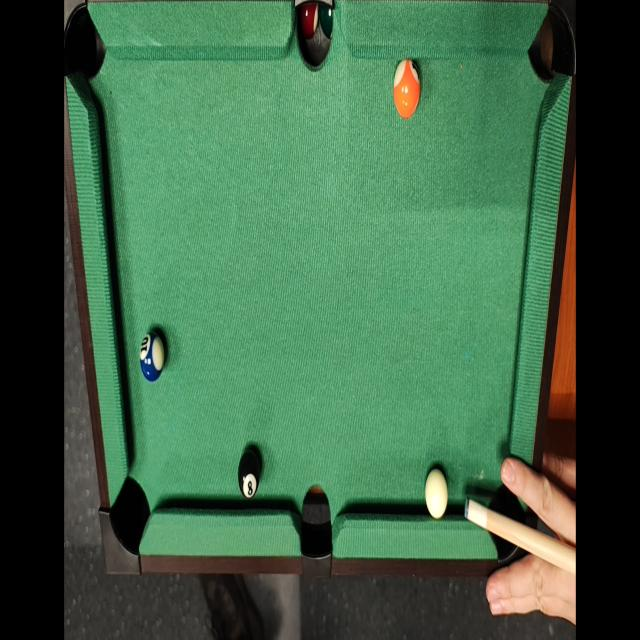cue ball: (424, 464, 450, 526)
other: (391, 60, 420, 122), (137, 329, 166, 383), (236, 451, 260, 506)
